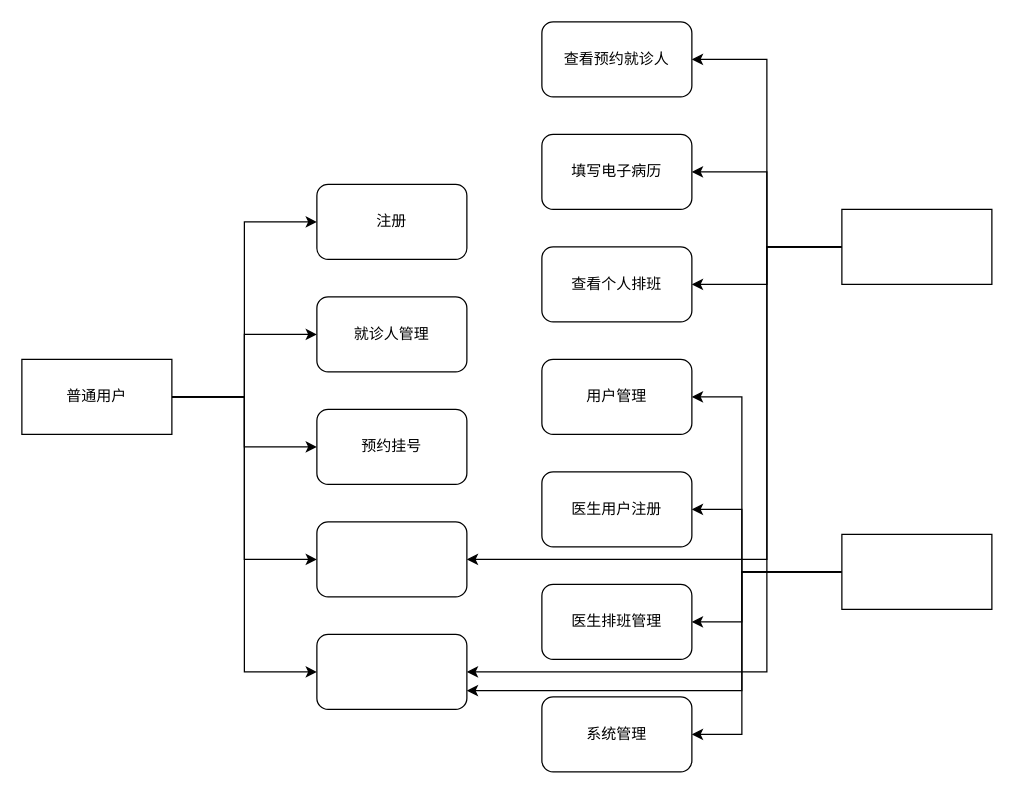
The diagram is 1014 pixels wide and 794 high, and some of its shapes have lost their labels. Here are the shapes that lost their labels. From the top down, the centre of each, then its label:
At [916,246]: "医生".
At [391,559]: "电子病历查询".
At [916,571]: "管理员".
At [391,671]: "登录系统".
